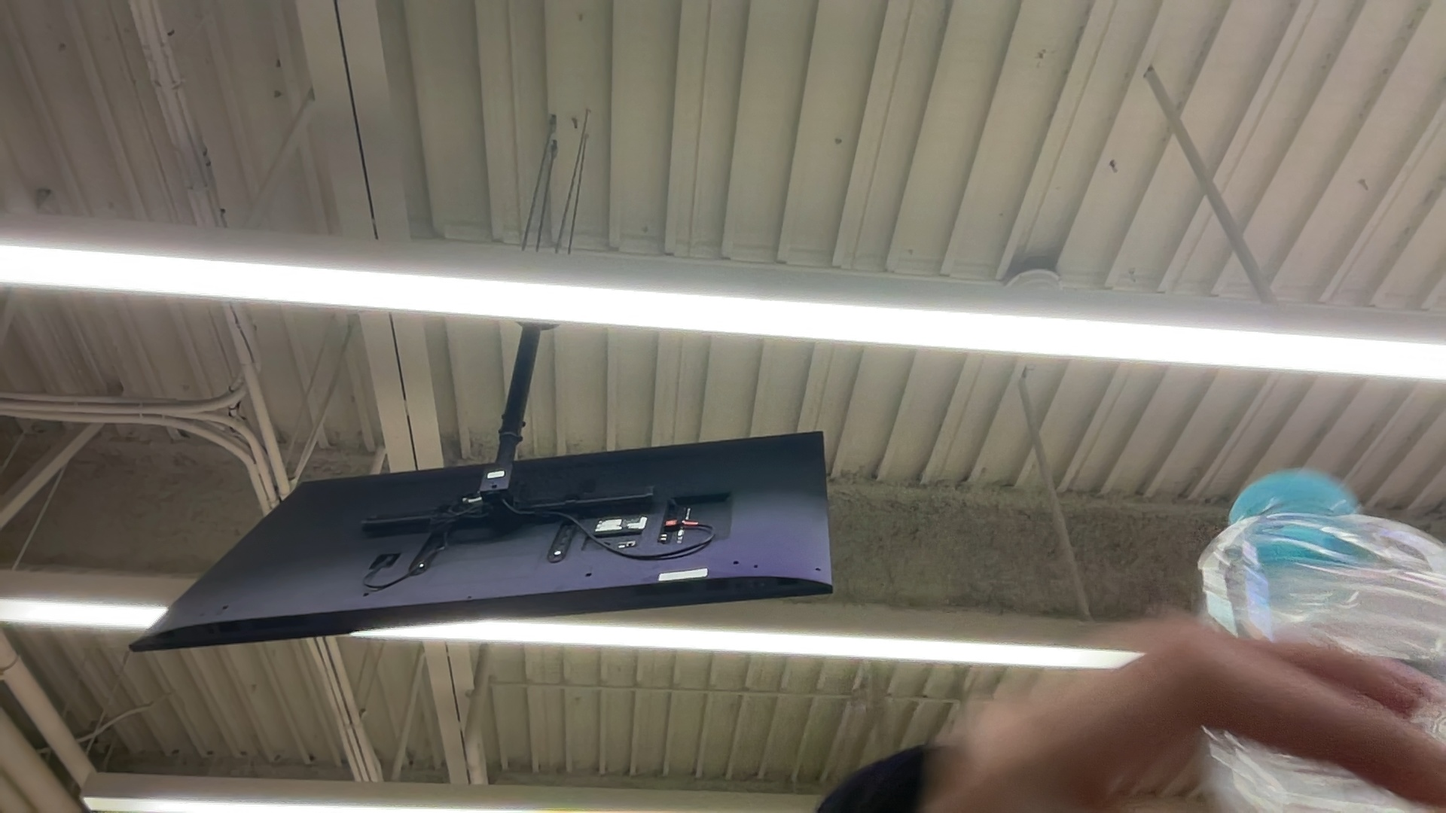Plastic: (1196, 473, 1444, 659)
